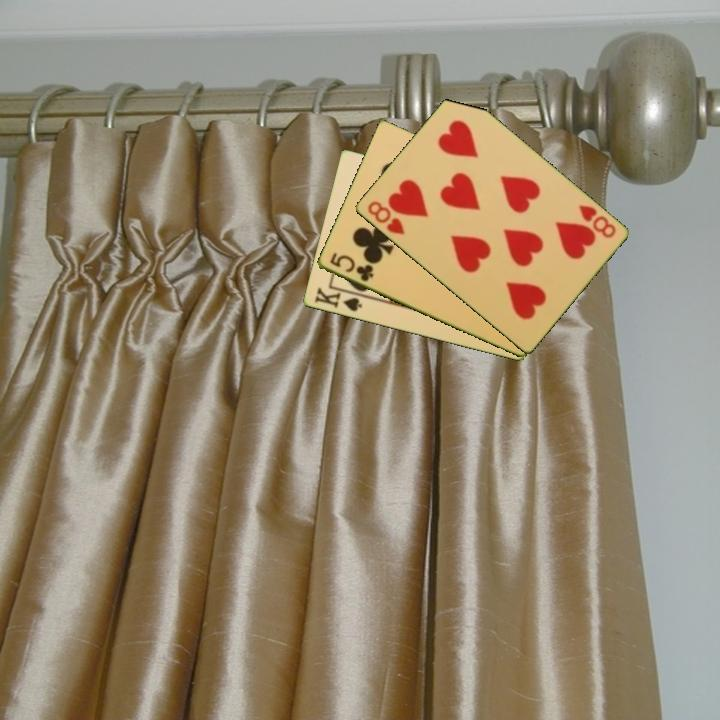5c: (326, 249, 376, 285)
8h: (364, 197, 407, 238), (575, 201, 618, 241)
Ks: (311, 284, 367, 315)
